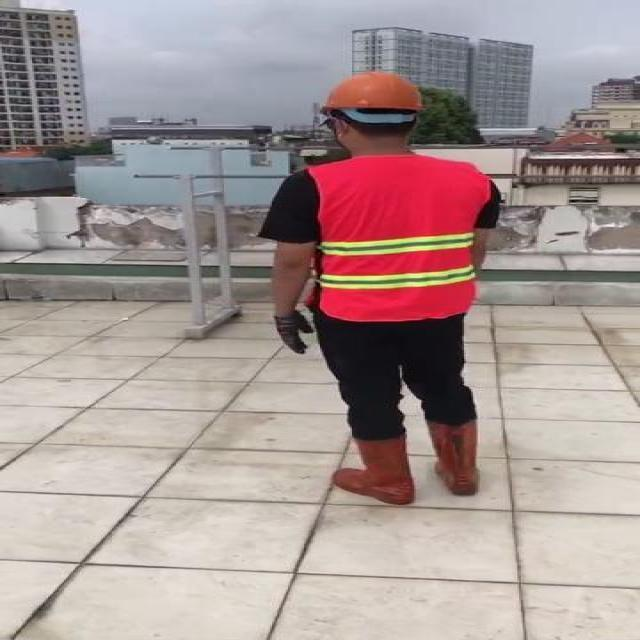boots: (332, 435, 416, 507), (431, 419, 484, 499)
gloves: (272, 316, 315, 353)
helmet: (312, 71, 424, 114)
vest: (304, 155, 491, 321)
